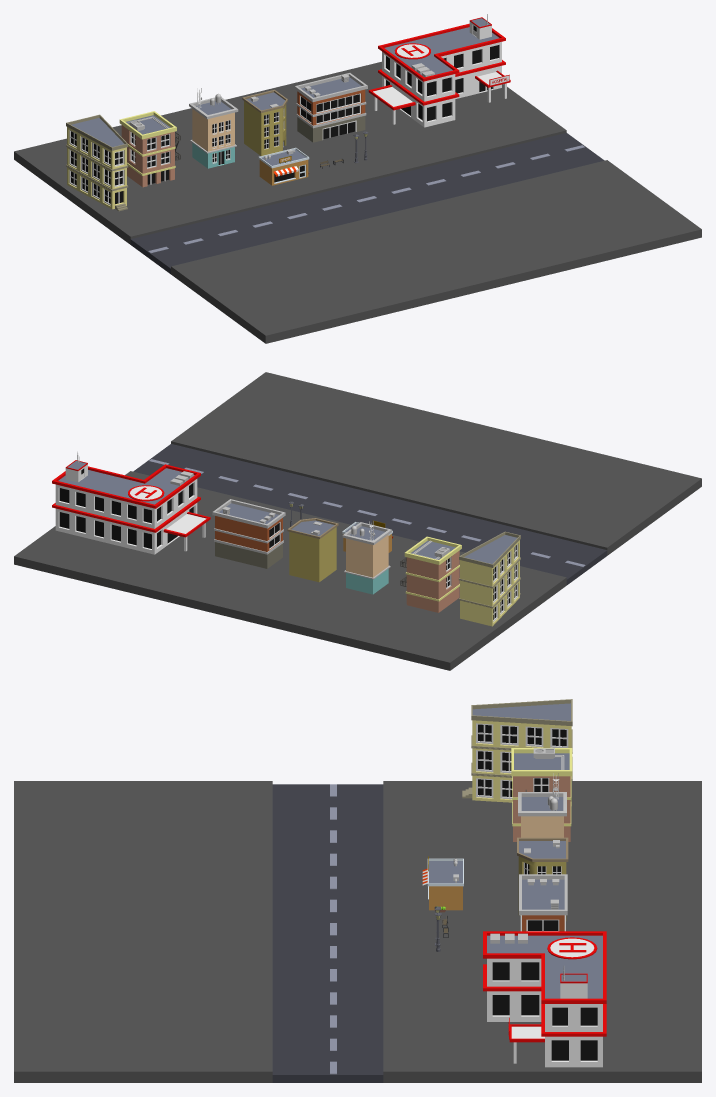
Rendered from road.glb.
3 views of the same model, one above another, from view 1: azimuth 30°, elevation 25°; view 2: azimuth 150°, elevation 25°; view 3: azimuth 270°, elevation 25° (orthographic). The views are drawn at different scales.
Visible parts, largest first — view 1: Road, Hospital, B4_Base, B5_Base, B3_Base, B1_Base, B2_Base, Shop1, B3_Base2, B3_Details, B4_Base2; view 2: Road, Hospital, B4_Base, B5_Base, B3_Base, B2_Base, B1_Base, B3_Base2, B1_Details, B4_Base2; view 3: Road, Hospital, B4_Base, B5_Base, Shop1, B3_Base, B1_Base, B2_Base, B4_Base2, B3_Base2, B1_Details.
Boxes of the visible parts, x1=… form: Road: x1=14, y1=61, x2=701, y2=343; Hospital: x1=368, y1=14, x2=510, y2=127; B4_Base: x1=66, y1=118, x2=128, y2=211; B5_Base: x1=119, y1=111, x2=176, y2=187; B3_Base: x1=296, y1=77, x2=366, y2=142; B1_Base: x1=192, y1=101, x2=234, y2=168; B2_Base: x1=244, y1=92, x2=286, y2=155; Shop1: x1=258, y1=147, x2=309, y2=185; B3_Base2: x1=294, y1=73, x2=367, y2=102; B3_Details: x1=300, y1=93, x2=360, y2=139; B4_Base2: x1=66, y1=114, x2=127, y2=150; Road: x1=14, y1=372, x2=701, y2=670; Hospital: x1=52, y1=451, x2=210, y2=554; B4_Base: x1=458, y1=535, x2=520, y2=626; B5_Base: x1=404, y1=536, x2=461, y2=612; B3_Base: x1=214, y1=503, x2=283, y2=568; B2_Base: x1=289, y1=520, x2=336, y2=582; B1_Base: x1=346, y1=526, x2=388, y2=594; B3_Base2: x1=212, y1=499, x2=285, y2=528; B1_Details: x1=342, y1=522, x2=391, y2=579; B4_Base2: x1=459, y1=531, x2=520, y2=567; Road: x1=14, y1=781, x2=701, y2=1082; Hospital: x1=483, y1=931, x2=606, y2=1067; B4_Base: x1=462, y1=703, x2=572, y2=805; B5_Base: x1=511, y1=748, x2=572, y2=841; Shop1: x1=422, y1=856, x2=463, y2=912; B3_Base: x1=520, y1=879, x2=565, y2=931; B1_Base: x1=521, y1=797, x2=563, y2=837; B2_Base: x1=518, y1=841, x2=566, y2=920; B4_Base2: x1=471, y1=699, x2=572, y2=726; B3_Base2: x1=519, y1=874, x2=567, y2=915; B1_Details: x1=518, y1=792, x2=566, y2=816.
Bounding box in the file's own units: 0.9778 × 0.1699 × 0.9778.
